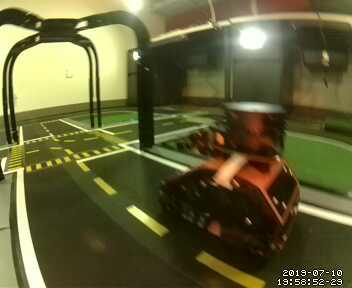pheeno: (160, 100, 305, 263)
